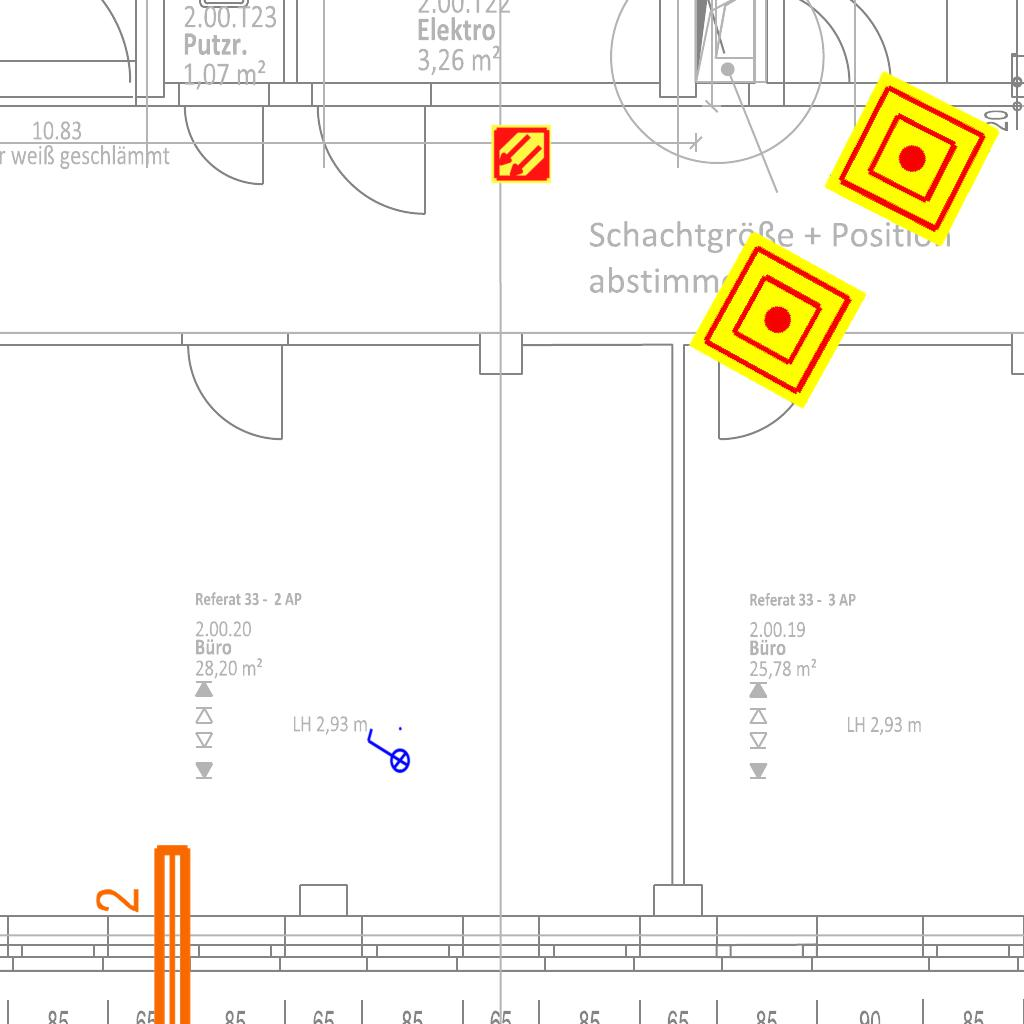ASR_Ansaugrauchmelder: (490, 123, 552, 185)
Ambulanz_Pendelleuchte_LED: (91, 836, 203, 1024)
Ausschalter_beleuchtet: (363, 724, 411, 780)
NAM-Nichtautomatischer_Melder: (688, 230, 868, 410), (823, 70, 1001, 248)
